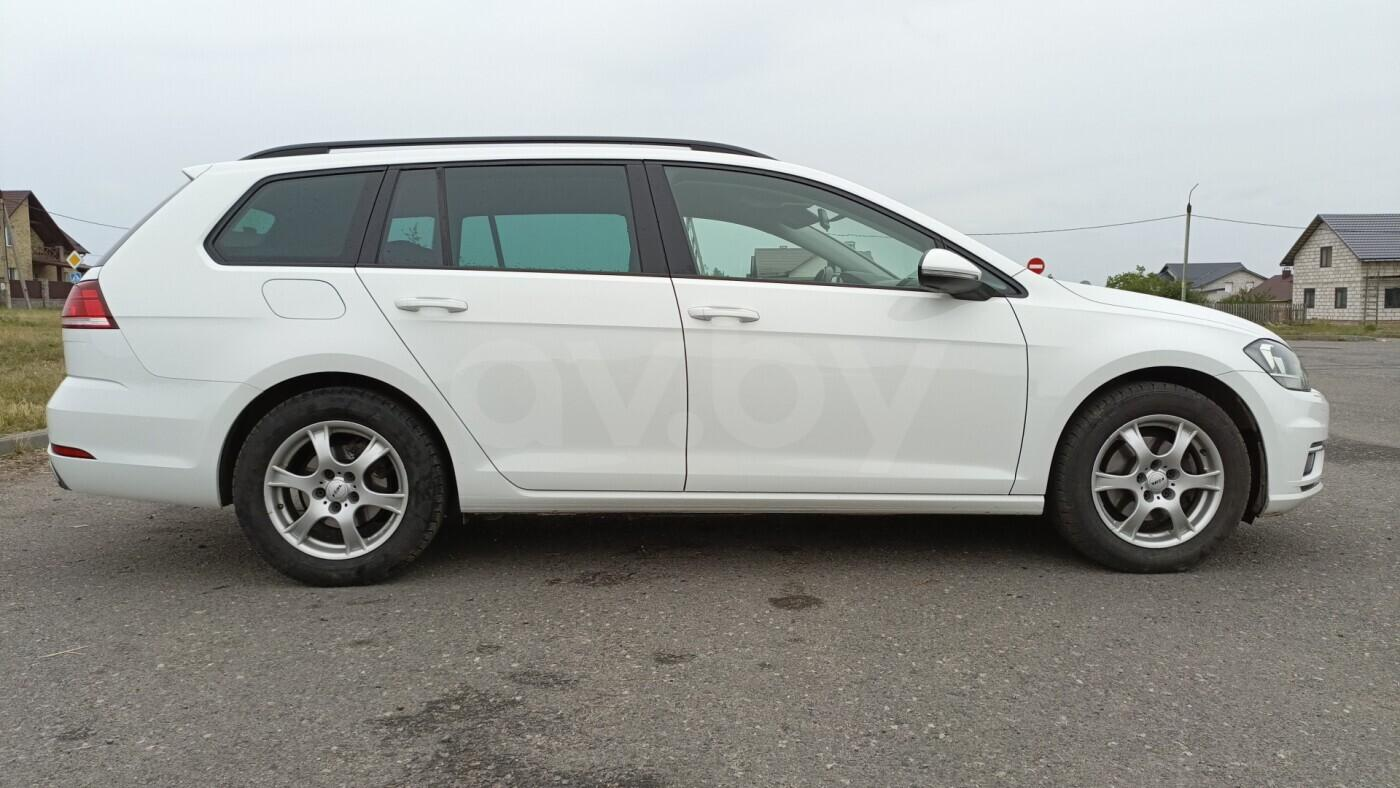Golf_2017-2021: (40, 136, 1334, 577)
